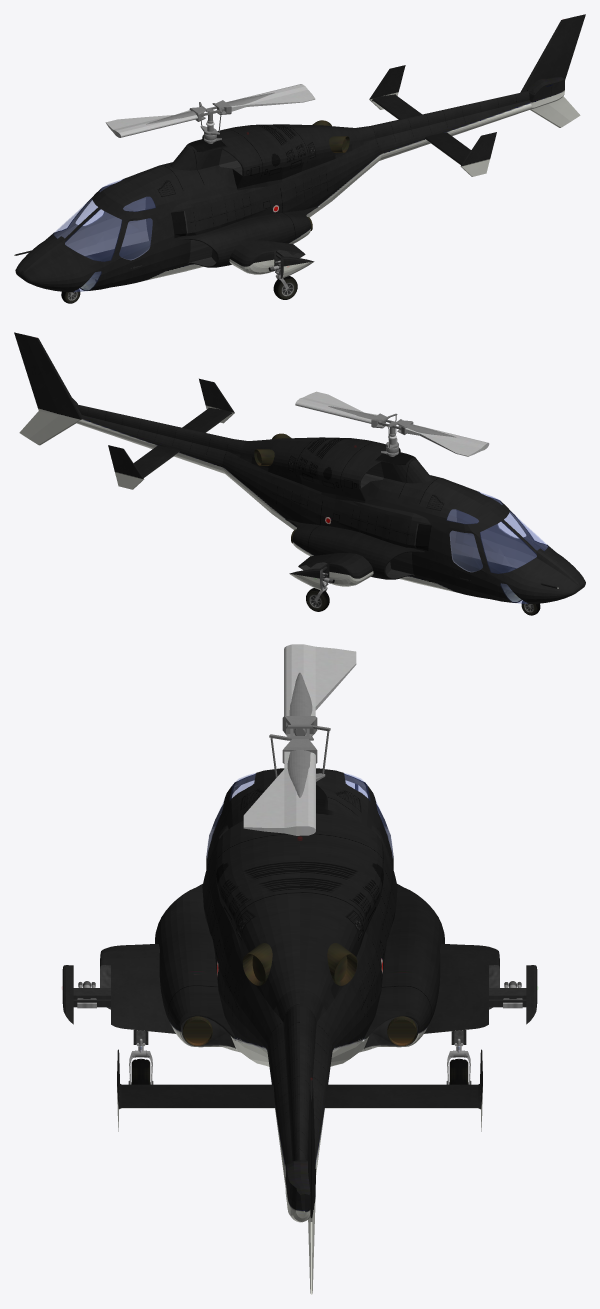
The model's file is heli_230.glb.
3 views of the same model, one above another, from view 1: azimuth 30°, elevation 25°; view 2: azimuth 150°, elevation 25°; view 3: azimuth 270°, elevation 25° (orthographic). The views are drawn at different scales.
Parts seen in each view (by area): view 1: fuselage, derive, HDRvitres, blade1 (×2), interieur, winglets, ailes, ailes2, porteG, trous, intporteD, tail (+6 smaller); view 2: fuselage, derive, HDRvitres, blade1 (×2), interieur, winglets, ailes, ailes2, porteD, trous, intporteG, HDRvitreD (+5 smaller); view 3: fuselage, ailes, ailes2, blade1 (×2), attache (×2), echappes, trous, sorties, tail, derive, bloqueD, bloqueG.
Boxes of the visible parts, <box> form: fuselage: <box>15,91,531,292</box>; derive: <box>520,14,585,127</box>; HDRvitres: <box>54,181,155,291</box>; blade1 (×2): <box>105,84,315,137</box>; interieur: <box>54,179,155,255</box>; winglets: <box>369,65,496,176</box>; ailes: <box>229,240,305,274</box>; ailes2: <box>372,94,471,164</box>; porteG: <box>109,215,155,285</box>; trous: <box>188,137,315,271</box>; intporteD: <box>66,199,108,254</box>; tail: <box>527,77,564,109</box>; fuselage: <box>76,404,585,604</box>; derive: <box>14,332,82,445</box>; HDRvitres: <box>447,494,547,603</box>; blade1 (×2): <box>295,391,489,456</box>; interieur: <box>447,492,547,568</box>; winglets: <box>108,378,234,489</box>; ailes: <box>298,553,373,586</box>; ailes2: <box>133,407,231,477</box>; porteD: <box>446,527,493,597</box>; trous: <box>286,450,414,583</box>; intporteG: <box>494,512,535,566</box>; HDRvitreD: <box>450,531,482,571</box>; fuselage: <box>155,768,444,1187</box>; ailes: <box>100,944,499,1033</box>; ailes2: <box>119,1084,480,1109</box>; blade1 (×2): <box>243,644,356,835</box>; attache (×2): <box>269,672,330,797</box>; echappes: <box>242,943,357,985</box>; trous: <box>100,965,499,1048</box>; sorties: <box>183,1016,416,1045</box>; tail: <box>285,1160,310,1222</box>; derive: <box>307,1077,315,1294</box>; bloqueD: <box>489,965,537,1024</box>; bloqueG: <box>62,965,110,1024</box>.
Bounding box in the file's own units: 13.97 × 4.03 × 5.12.
Materials: 11 (11 with a texture image).
